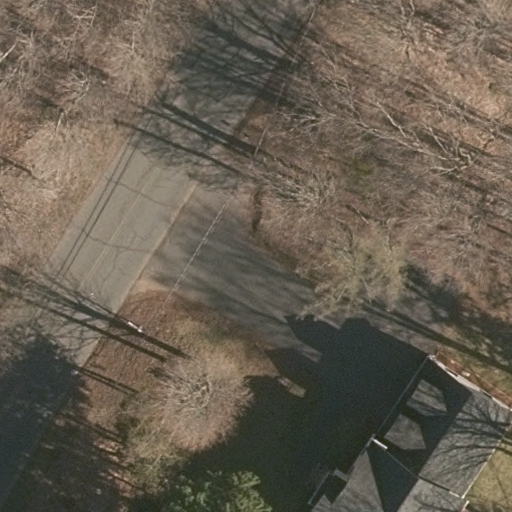DT: (123, 317, 160, 348)
